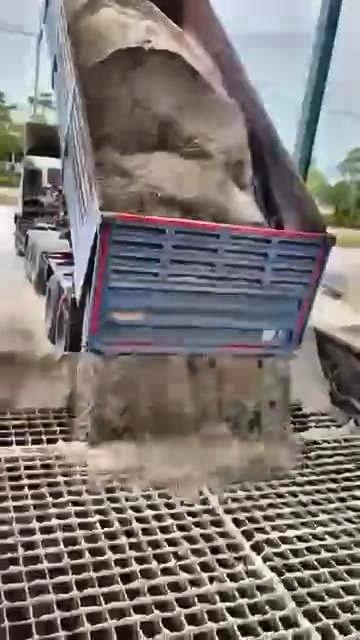sand: (1, 331, 331, 497), (65, 0, 263, 225), (204, 488, 291, 605), (303, 421, 355, 442)
